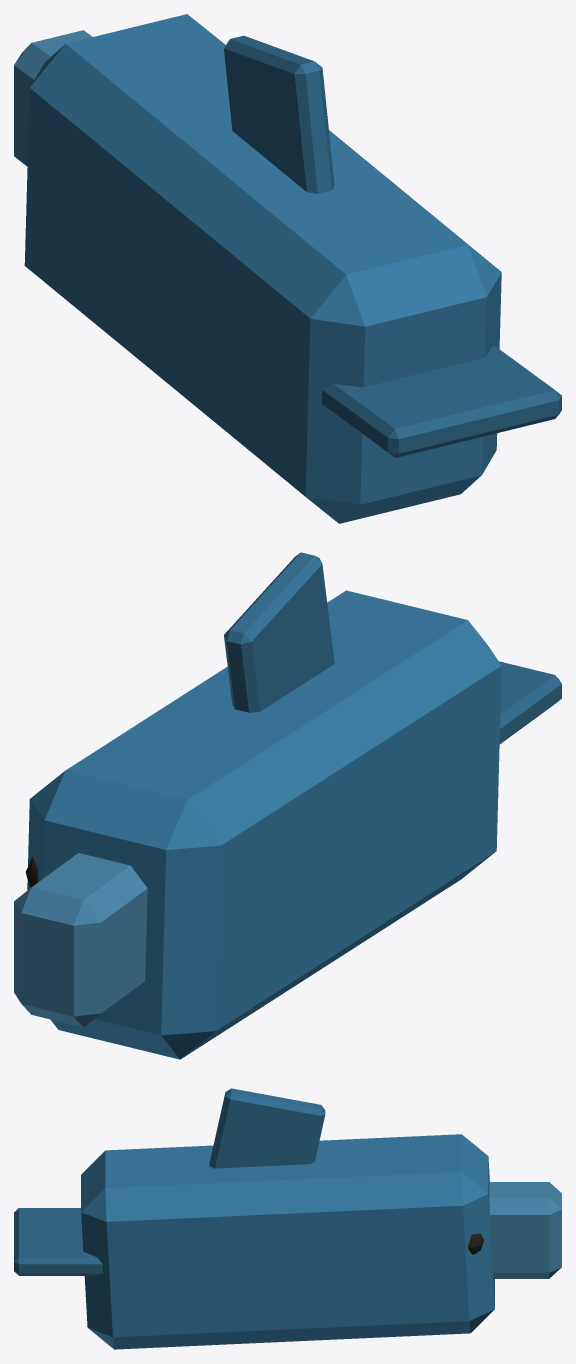
File: Fish.glb
3 renders of one model, top to bottom at view 1: azimuth 30°, elevation 25°; view 2: azimuth 150°, elevation 25°; view 3: azimuth 270°, elevation 25°, orthographic. The views are drawn at different scales.
Parts seen in each view (by area): view 1: Body; view 2: Body; view 3: Body.
Part boxes in pixels (x1,y1,x2,y2): Body: (14,14,561,523); Body: (14,552,561,1059); Body: (14,1088,561,1349).
Bounding box in the file's own units: 0.55 × 1.04 × 2.15.
